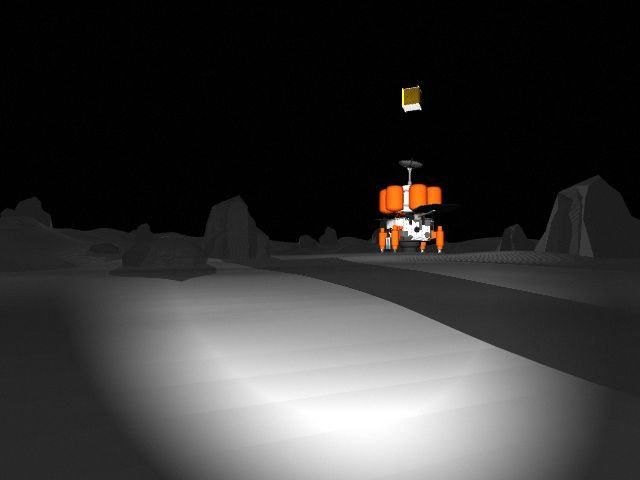cubesat: (396, 80, 437, 116)
